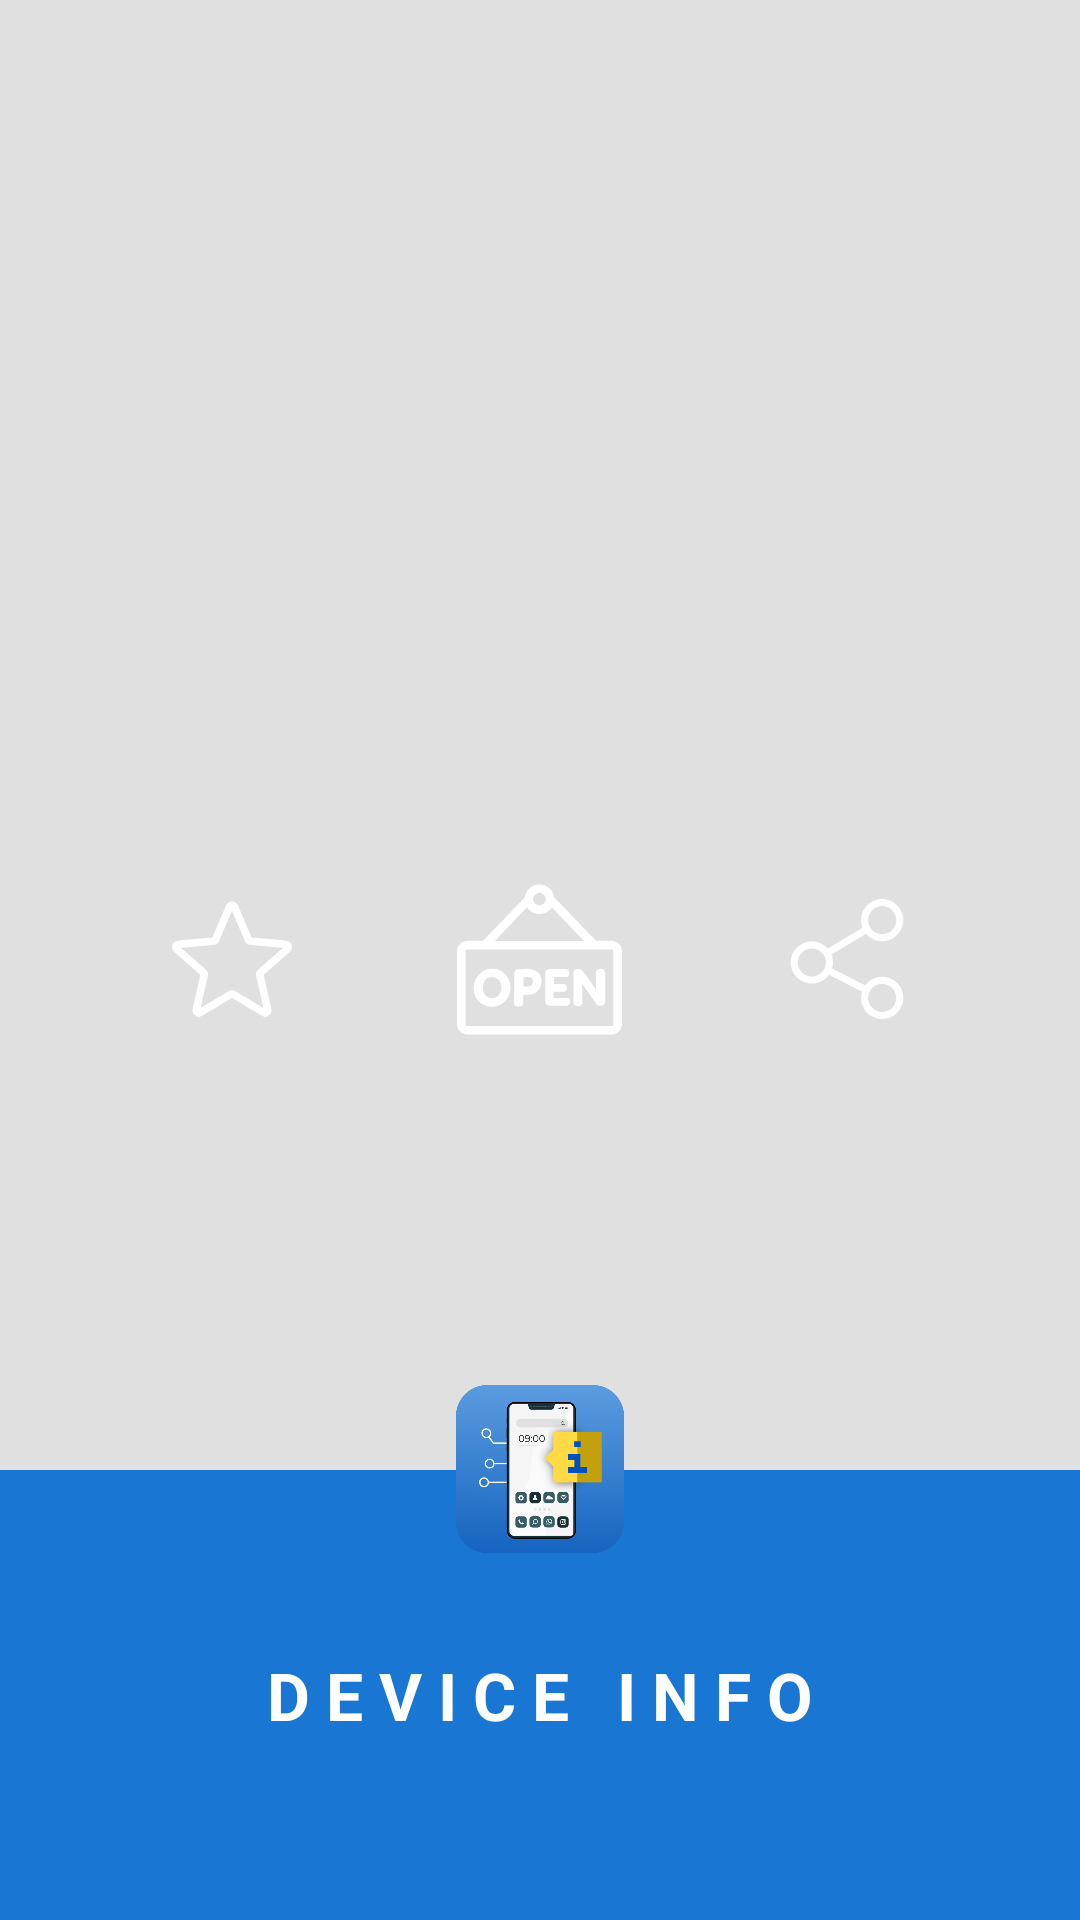

Named icons in this screenshot (1080*1920) and their bounding boxes, (left=x1, top=y1, right=x2, bottom=y2):
share: (left=791, top=899, right=903, bottom=1019)
star: (left=172, top=902, right=292, bottom=1016)
